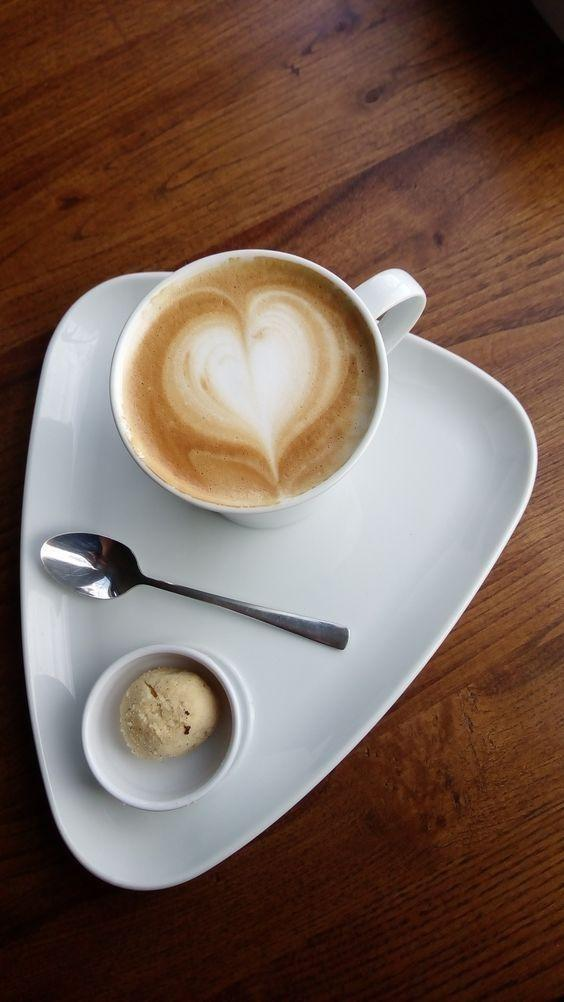cup-handle: (106, 247, 426, 520)
